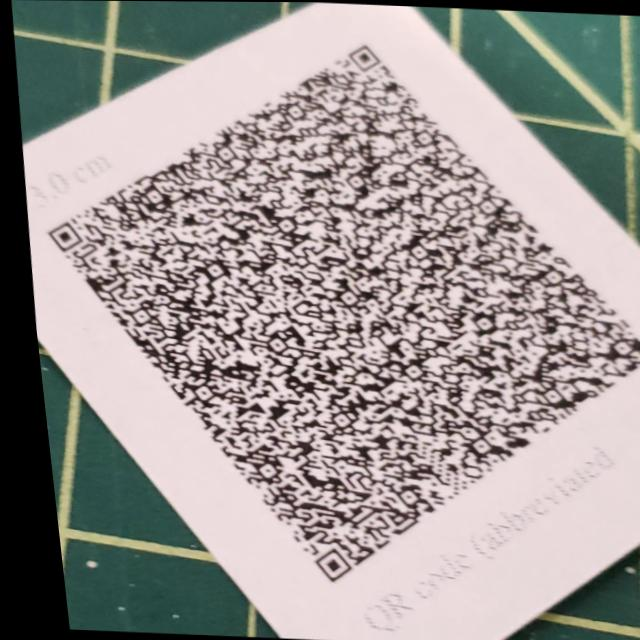QR_CODE: (1, 17, 640, 604)
